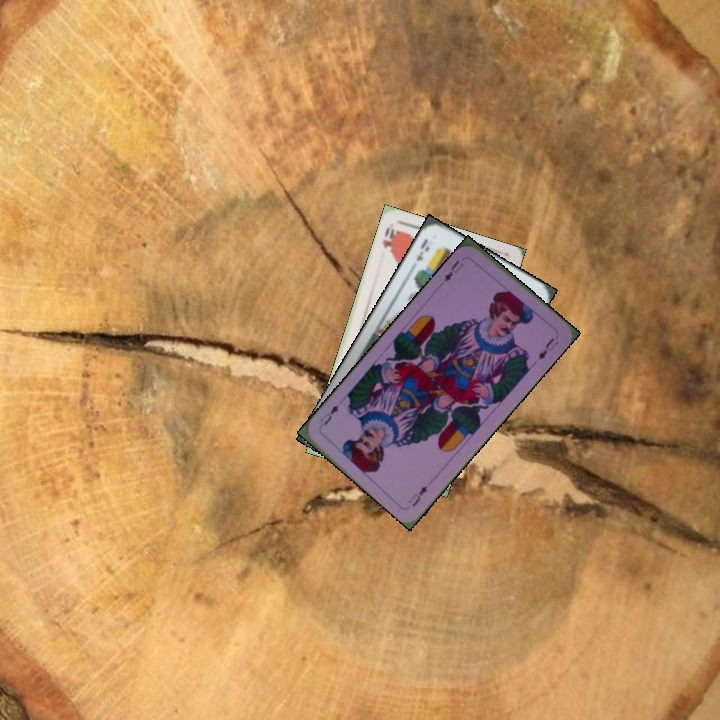EK: (412, 235, 432, 264)
EU: (403, 481, 430, 509), (440, 256, 466, 284)
HO: (378, 223, 400, 254)
